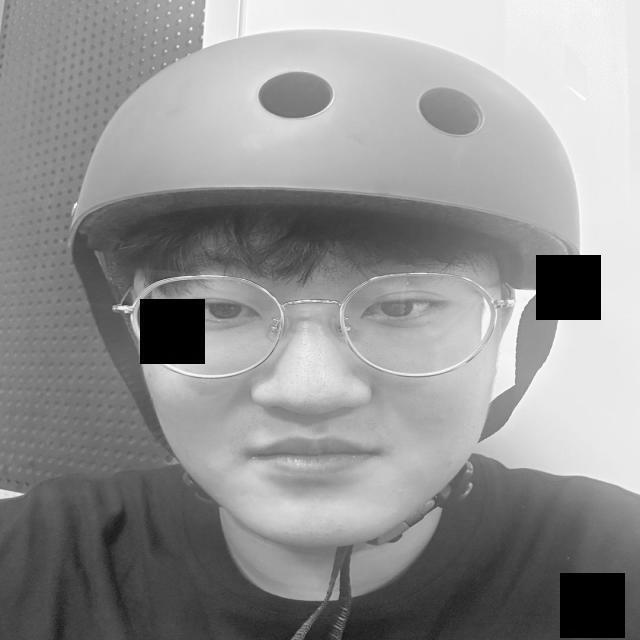helmet: (66, 26, 581, 289)
